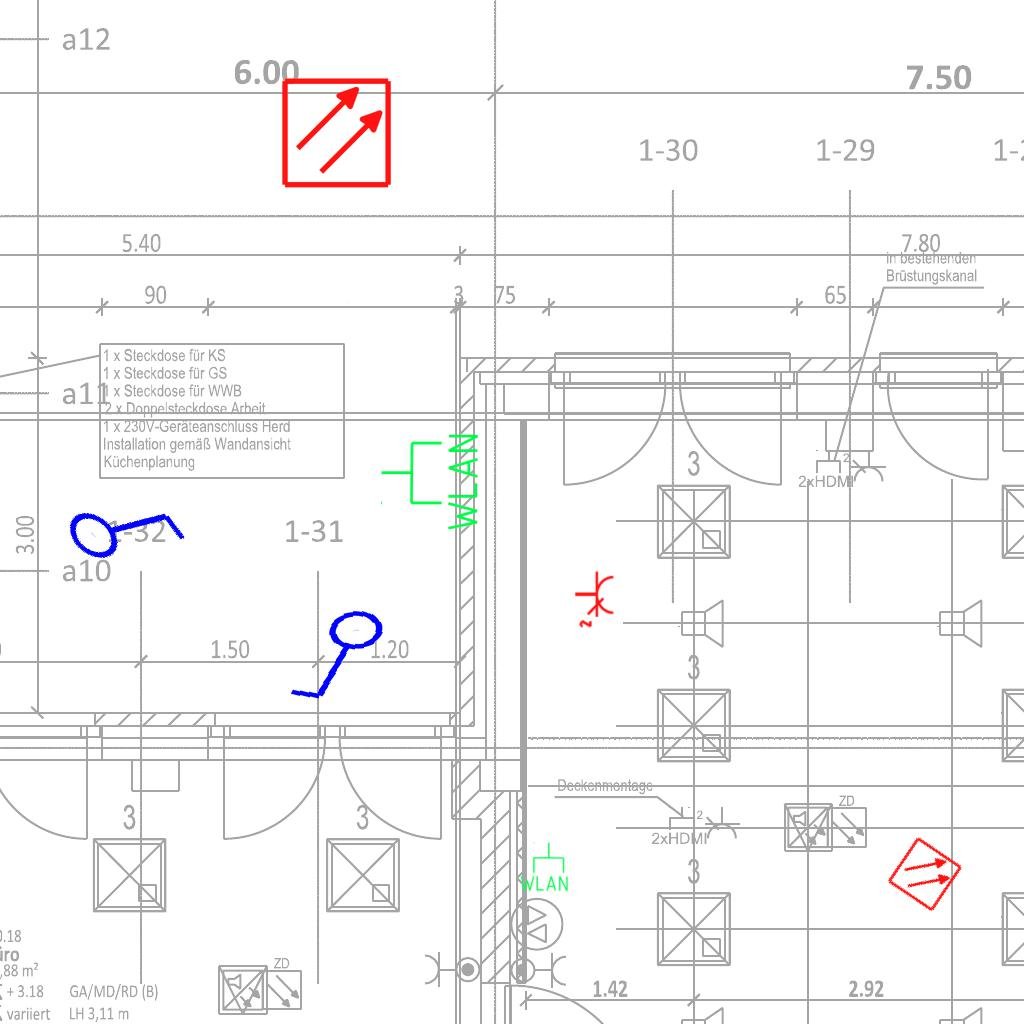Ausschalter: (50, 454, 198, 600), (280, 604, 402, 712)
RMO_Rauchmelder_optischer: (280, 76, 393, 189), (886, 835, 964, 913)
Schukosteckdose_mehrfach: (572, 569, 616, 629)
WLAN: (378, 430, 482, 535), (518, 841, 570, 893)
